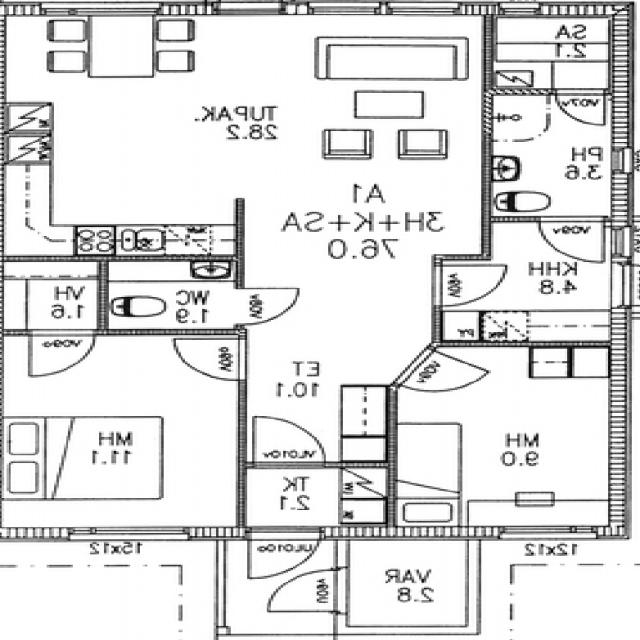door: (392, 348, 488, 407), (249, 528, 321, 586), (253, 416, 326, 466), (270, 570, 349, 612), (172, 339, 245, 380), (28, 330, 92, 376), (540, 216, 604, 262), (435, 267, 504, 306), (237, 289, 301, 325), (556, 90, 605, 126), (613, 264, 640, 306), (220, 0, 282, 15)
